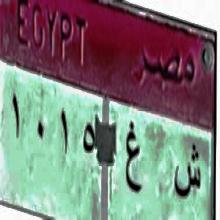1: (59, 101, 76, 167), (9, 89, 23, 146)
5: (80, 120, 98, 166)
ghayn: (124, 117, 144, 206)
sheen: (172, 132, 203, 217)
